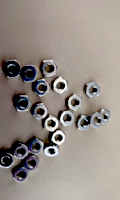nut: (3, 60, 21, 79), (31, 103, 49, 121), (21, 66, 38, 83), (41, 61, 58, 78), (14, 96, 31, 113), (43, 116, 60, 133), (53, 77, 69, 95), (57, 111, 76, 126), (84, 83, 101, 99), (67, 95, 83, 112), (28, 139, 45, 155), (34, 80, 50, 96), (13, 144, 29, 160), (77, 114, 92, 131), (13, 168, 30, 183), (90, 112, 104, 130), (0, 153, 15, 169), (25, 156, 40, 172), (50, 131, 66, 145), (45, 144, 60, 158), (101, 109, 111, 126)
